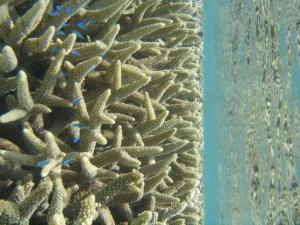bleached_corals: (0, 0, 202, 224)
